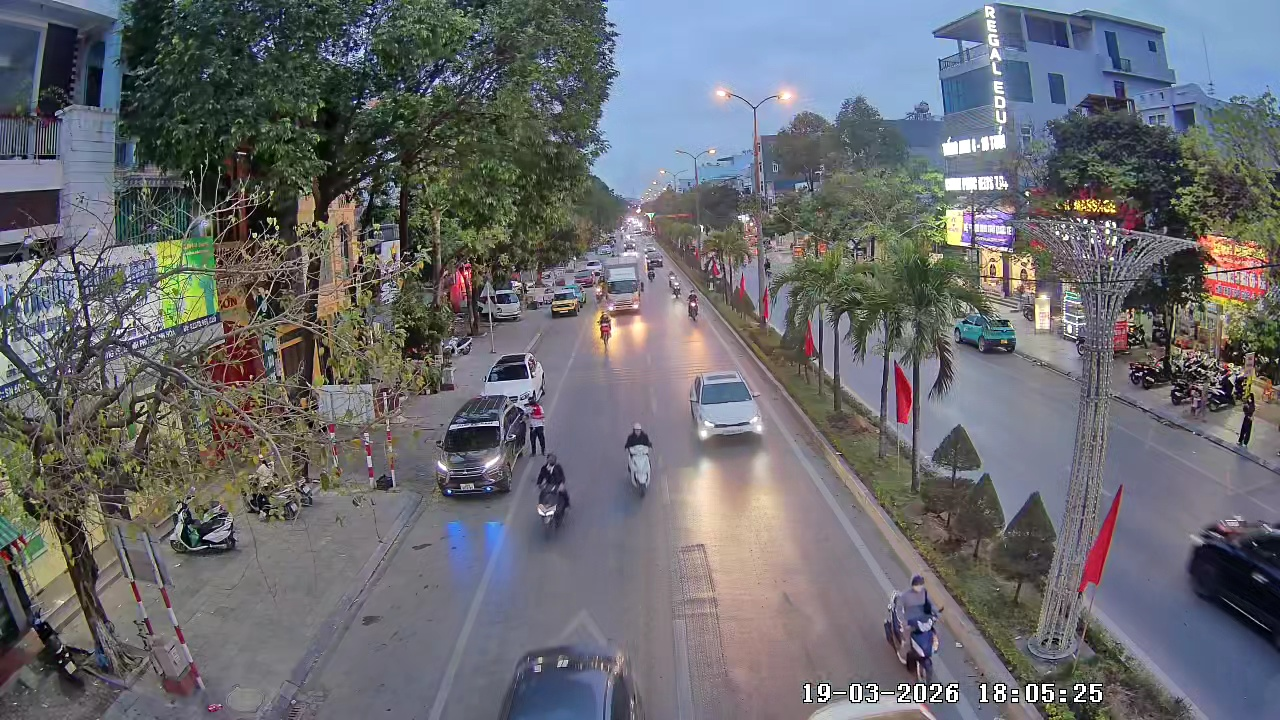car: (1187, 514, 1279, 668), (434, 394, 523, 498), (687, 368, 764, 444), (483, 350, 548, 410), (954, 313, 1019, 352), (605, 269, 643, 313), (549, 282, 584, 317)
motorbike: (883, 572, 944, 683), (165, 487, 241, 557), (531, 452, 573, 543), (622, 422, 657, 498), (686, 289, 700, 321), (597, 312, 612, 341)
pedestrian: (526, 397, 554, 460), (1237, 400, 1257, 449)
